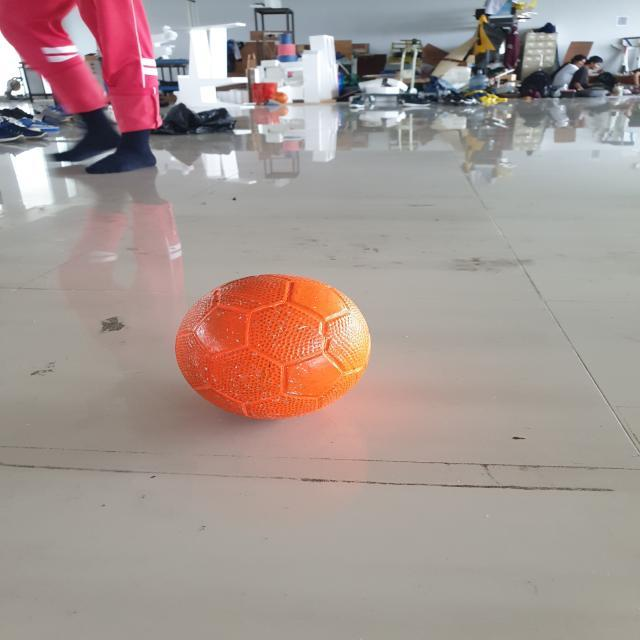bola: (170, 268, 374, 424)
